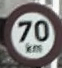Speed limit: (2, 1, 58, 62)
